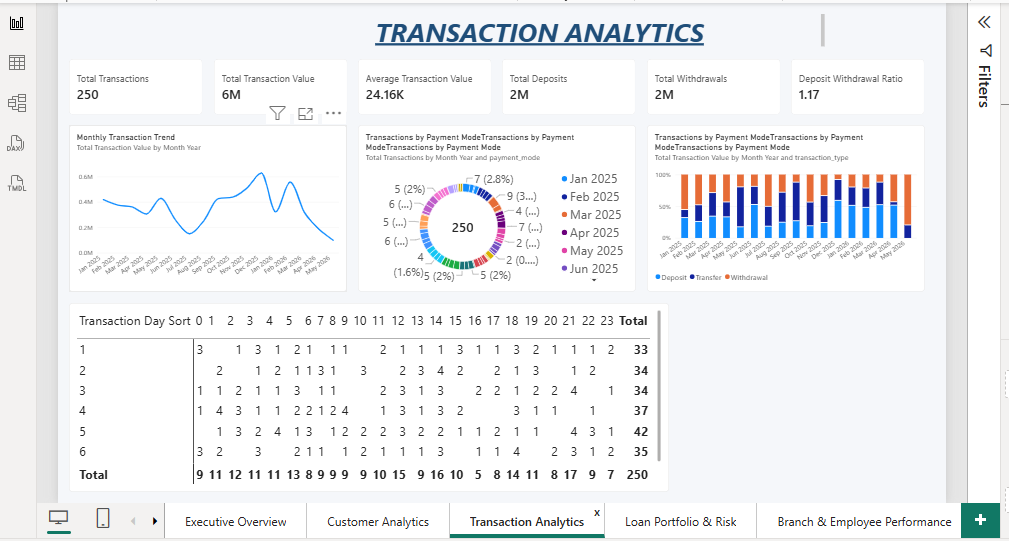

What the dashboard file says about the page in this screenshot:
{"tool":"powerbi","page":{"name":"Transaction Analytics","canvas":[1920,1080],"ordinal":2},"visuals":[{"type":"cardVisual","fields":{"Data":["Accounts.Total Transactions"]},"box":[24,120,288,120],"z":0},{"type":"textbox","box":[432,24,1224,72],"z":1000},{"type":"cardVisual","fields":{"Data":["Accounts.Total Transaction Value"]},"box":[336,120,288,120],"z":2000},{"type":"cardVisual","fields":{"Data":["Accounts.Average Transaction Value"]},"box":[648,120,288,120],"z":3000},{"type":"cardVisual","fields":{"Data":["Accounts.Total Deposits"]},"box":[960,120,288,120],"z":4000},{"type":"cardVisual","fields":{"Data":["Accounts.Total Withdrawals"]},"box":[1272,120,288,120],"z":5000},{"type":"cardVisual","fields":{"Data":["Accounts.Deposit Withdrawal Ratio"]},"box":[1584,120,288,120],"z":6000},{"type":"lineChart","title":"Monthly Transaction Trend","fields":{"Category":["Transactions.Month Year"],"Y":["Accounts.Total Transaction Value"]},"box":[24,264,600,360],"z":7000},{"type":"donutChart","title":"Transactions by Payment ModeTransactions by Payment ModeTransactions by Payment Mode","fields":{"Category":["Transactions.Month Year"],"Series":["Transactions.payment_mode"],"Y":["Accounts.Total Transactions"]},"box":[648,264,600,360],"z":8000},{"type":"hundredPercentStackedColumnChart","title":"Transactions by Payment ModeTransactions by Payment ModeTransactions by Payment Mode","fields":{"Category":["Transactions.Month Year"],"Y":["Accounts.Total Transaction Value"],"Series":["Transactions.transaction_type"]},"box":[1272,264,600,360],"z":9000},{"type":"pivotTable","fields":{"Values":["Accounts.Total Transactions"],"Columns":["Transactions.Transaction Hour"],"Rows":["Transactions.Transaction Day Sort"]},"box":[24,648,1296,408],"z":10000}]}

Visuals, with their boxes on the page's 1920x1080 design canvas (x1, y1, x2, y2). These are canvas units, not pixel positions in the 1009x541 screenshot, which may show the page scaled, cropped or inside an application window:
cardVisual - Accounts.Total Transactions: x1=24 y1=120 x2=312 y2=240
textbox: x1=432 y1=24 x2=1656 y2=96
cardVisual - Accounts.Total Transaction Value: x1=336 y1=120 x2=624 y2=240
cardVisual - Accounts.Average Transaction Value: x1=648 y1=120 x2=936 y2=240
cardVisual - Accounts.Total Deposits: x1=960 y1=120 x2=1248 y2=240
cardVisual - Accounts.Total Withdrawals: x1=1272 y1=120 x2=1560 y2=240
cardVisual - Accounts.Deposit Withdrawal Ratio: x1=1584 y1=120 x2=1872 y2=240
"Monthly Transaction Trend" lineChart: x1=24 y1=264 x2=624 y2=624
"Transactions by Payment ModeTransactions by Payment ModeTransactions by Payment Mode" donutChart: x1=648 y1=264 x2=1248 y2=624
"Transactions by Payment ModeTransactions by Payment ModeTransactions by Payment Mode" hundredPercentStackedColumnChart: x1=1272 y1=264 x2=1872 y2=624
pivotTable - Accounts.Total Transactions x Transactions.Transaction Hour: x1=24 y1=648 x2=1320 y2=1056
